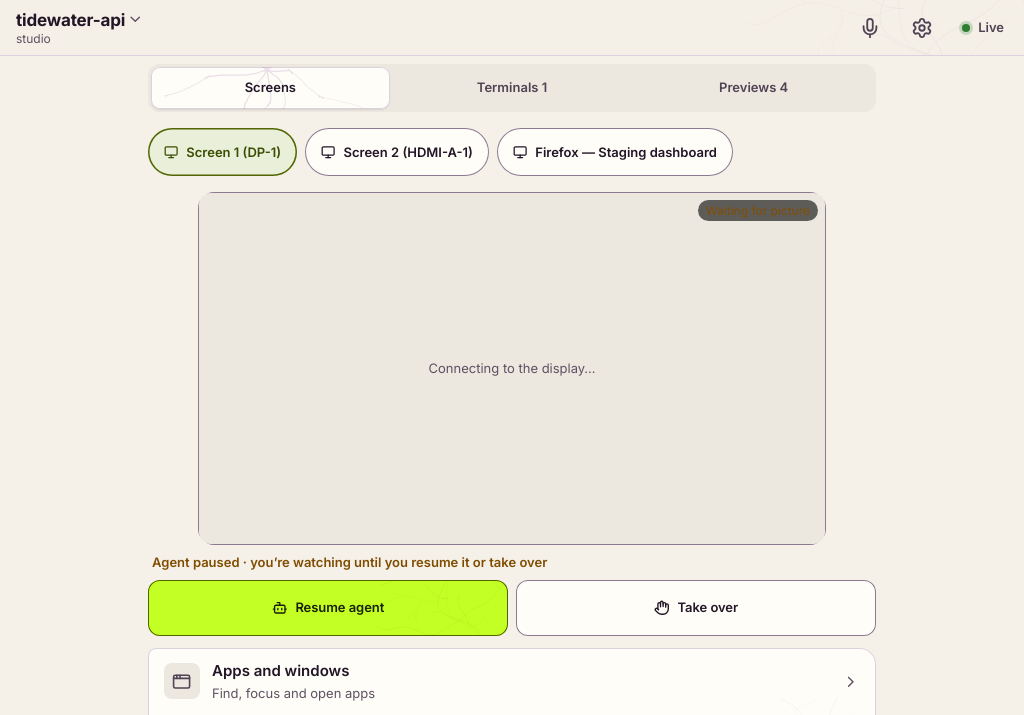
it: leads a paused agent's display with Resume agent, its review keeping the picture and Mark up, and Take over beside it
The width and height of the screenshot is (1024, 715).
Expected: the text with class "control-live__state" reads "Agent paused · you’re watching until you resume it or take over", [152,554,547,570]
Step 1. Click the button "Resume agent" → (328, 608), box [148,580,508,636]
Wait 900 ms
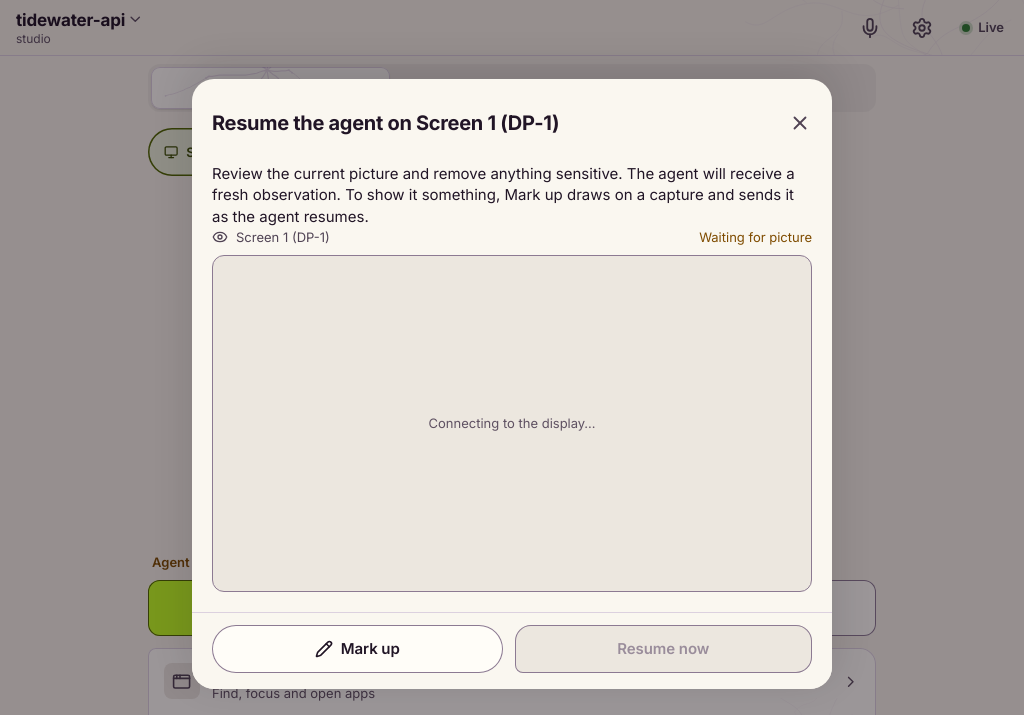
Expected: the button "Mark up" is shown, [212,625,502,673]
Expected: the button "Resume now" is shown, [514,625,812,673]
